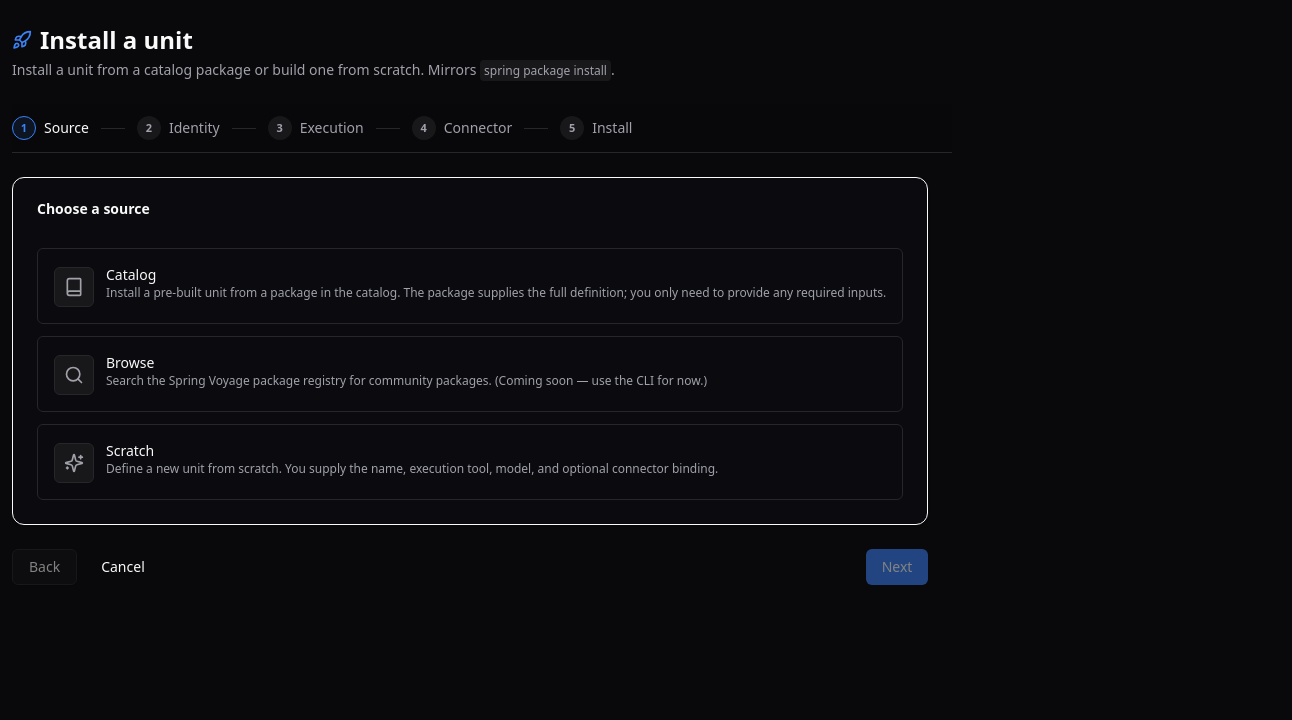
Test case: CreateUnitPage — catalog branch (#1563) › translates missing connector ProblemDetails during catalog install
The image size is (1292, 720).
Click the button with test id "source-card-catalog" at (470, 286), box [37,248,903,324]
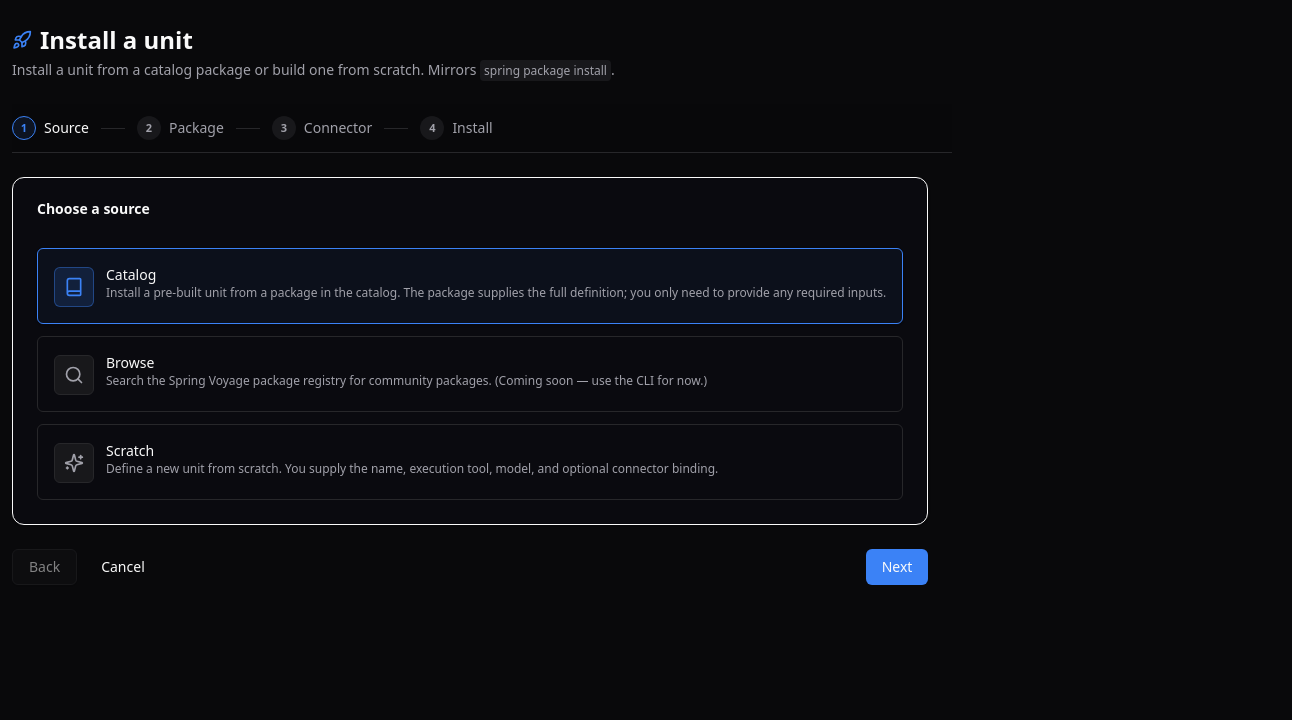
Click the button "Next" at (897, 567), box [866,549,928,585]
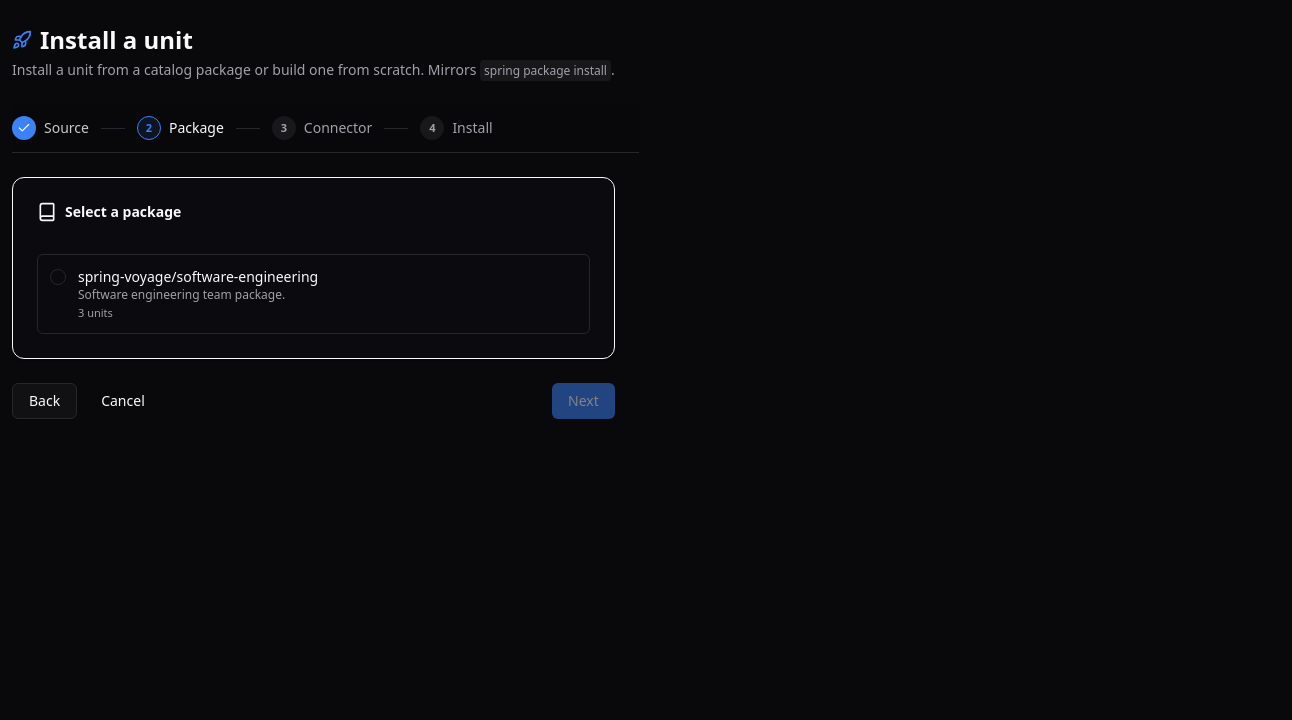
Click the button with test id "package-option-spring-voyage/software-engineering" at (198, 276), box [37,254,590,334]
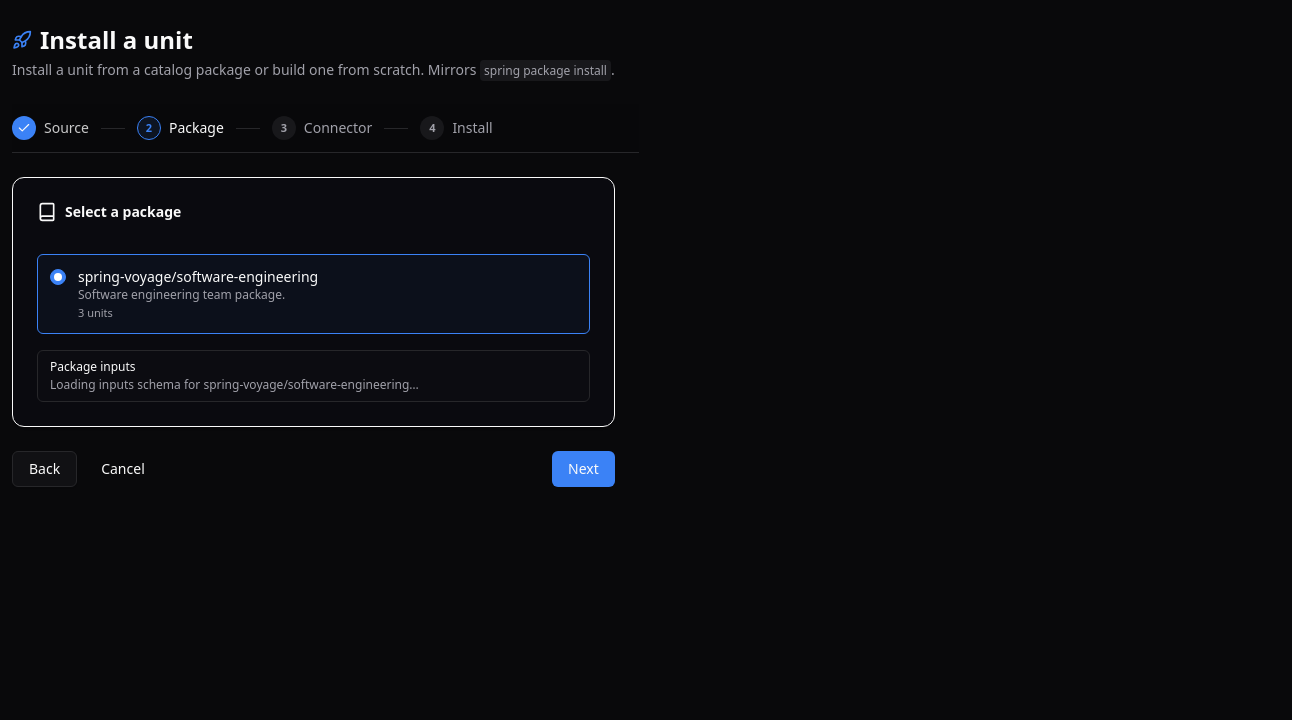
Click the button "Next" at (583, 469), box [552,451,615,487]
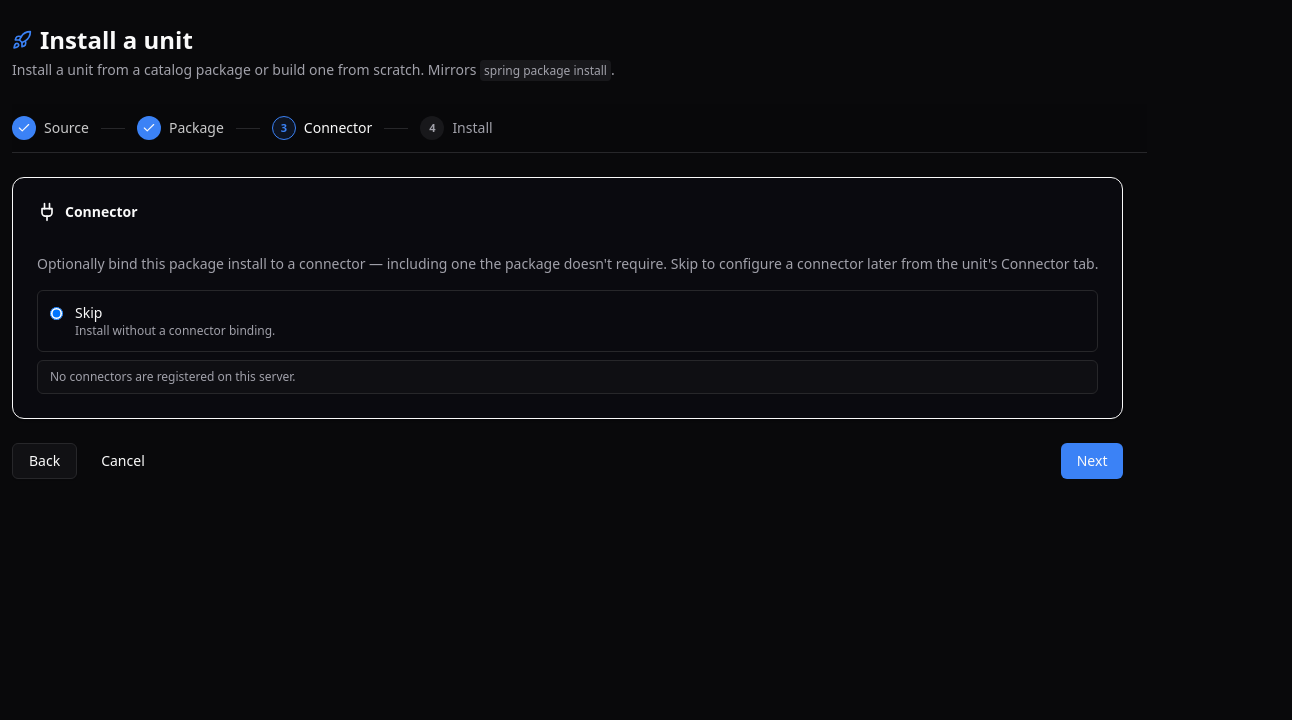
Click the button "Next" at (1092, 461), box [1061,443,1123,479]
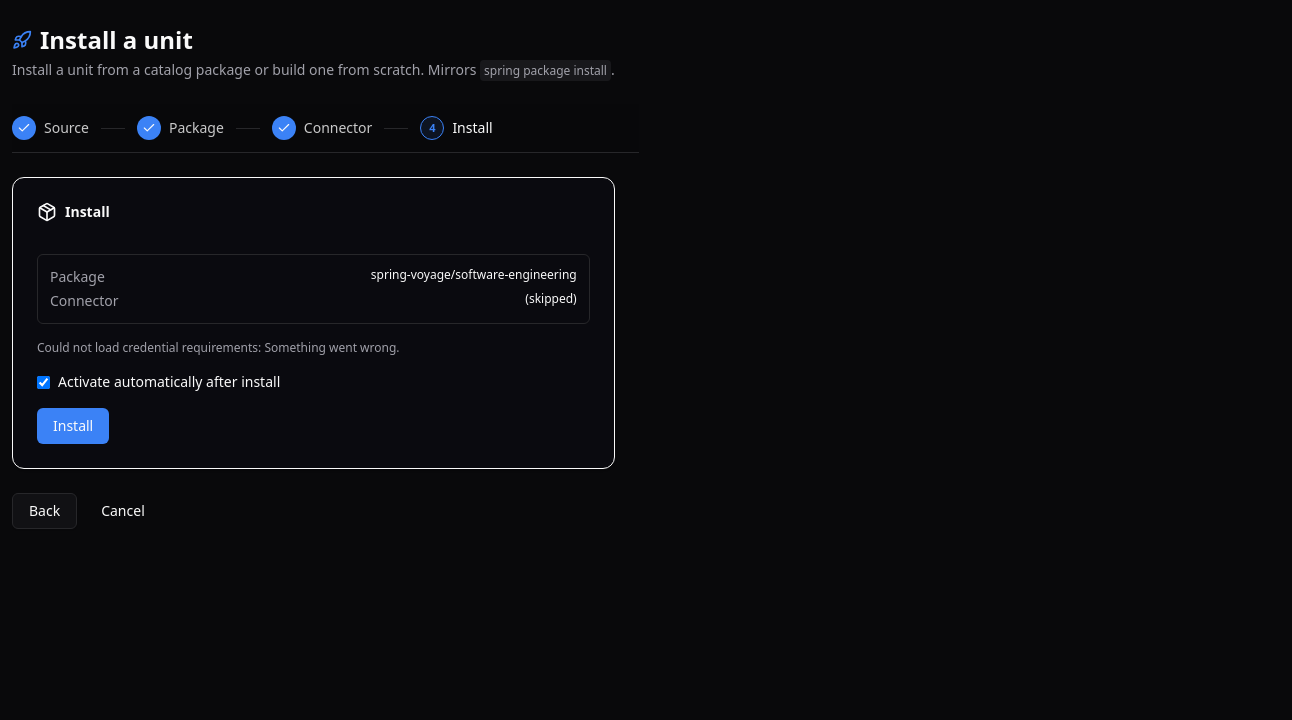
Click the button with test id "install-unit-button" at (73, 426), box [37,408,109,444]
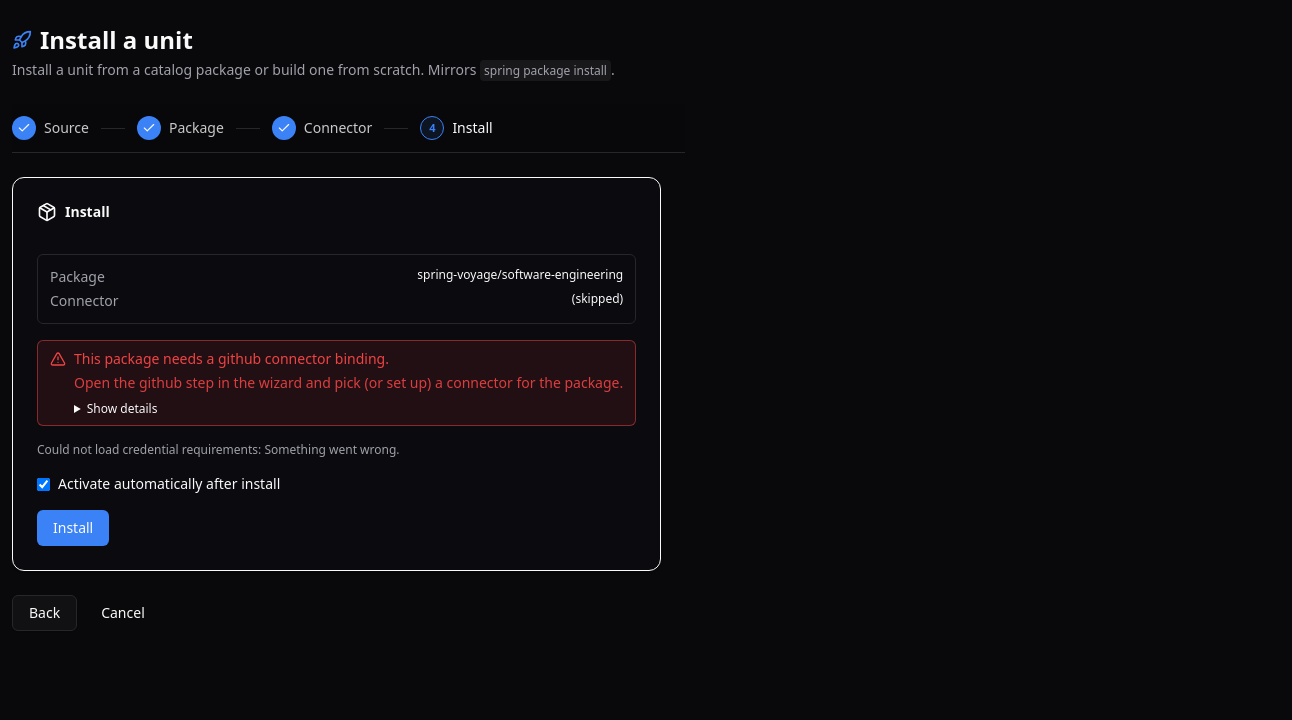
Expected: the message with test id "api-error-message" shows "This package needs a github connector binding.", [74,349,389,368]
Expected: the message with test id "api-error-message" shows "Open the github step in the wizard and pick (or set up) a connector for the package.", [74,373,623,392]
Expected: the heading "Show details" is shown, [87,400,157,417]
